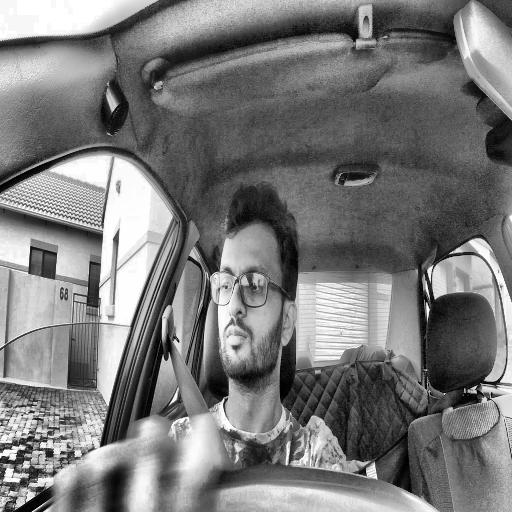awake: (209, 185, 299, 382)
